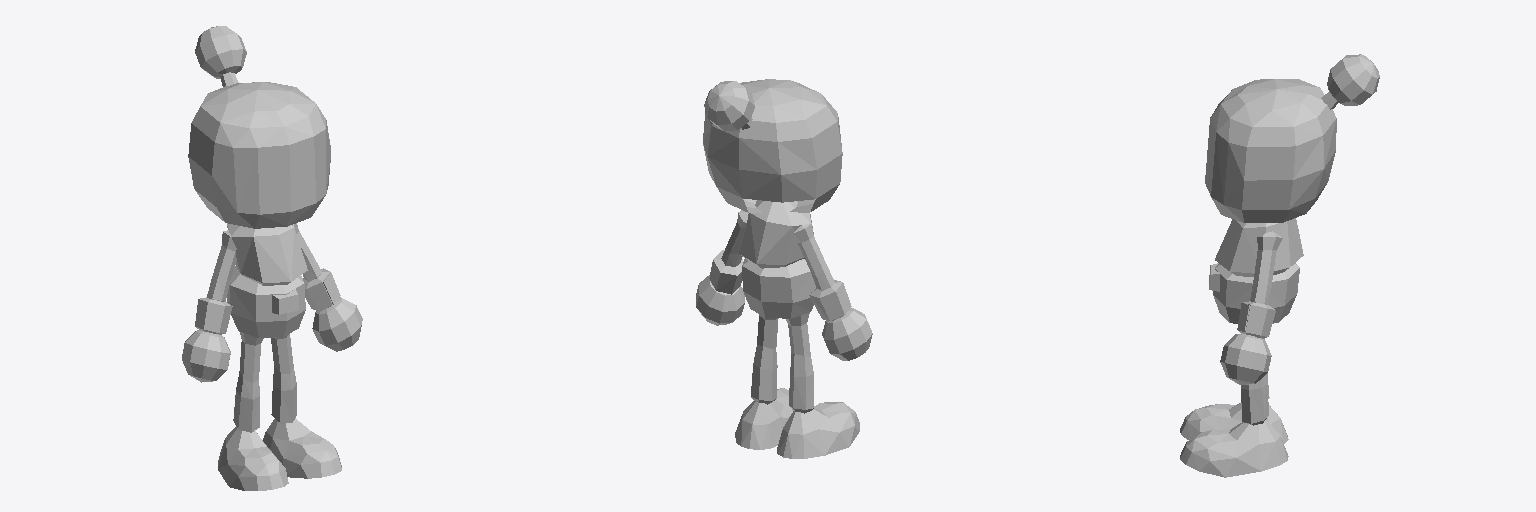
Rendered from NEWBOMBY.obj.
The picture shows the model from 3 angles: view 1: azimuth 30°, elevation 25°; view 2: azimuth 150°, elevation 25°; view 3: azimuth 270°, elevation 25°; orthographic projection.
Visible parts, largest first — view 1: Mesh.014_DrawCall_287.001; view 2: Mesh.014_DrawCall_287.001; view 3: Mesh.014_DrawCall_287.001.
Part boxes in pixels (x1,y1,x2,y2): Mesh.014_DrawCall_287.001: (182, 26, 362, 490); Mesh.014_DrawCall_287.001: (696, 79, 872, 458); Mesh.014_DrawCall_287.001: (1180, 54, 1379, 477).
Size of the model in its own units: 0.979 by 2.17 by 0.9813.